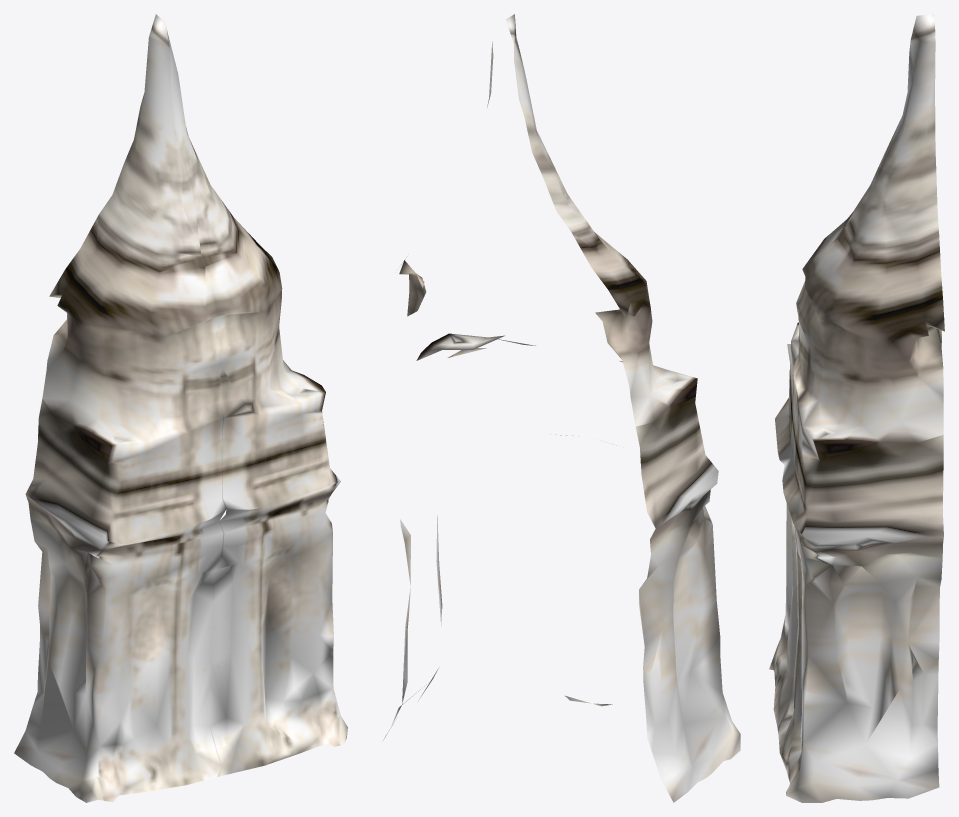
File: tombabsalom.glb
3 renders of one model, left to right at view 1: azimuth 30°, elevation 25°; view 2: azimuth 150°, elevation 25°; view 3: azimuth 270°, elevation 25°, orthographic. The views are drawn at different scales.
Parts seen in each view (by area): view 1: tomb; view 2: tomb; view 3: tomb.
Boxes of the visible parts, left/top/right/bottom form: tomb: left=14, top=14, right=347, bottom=802; tomb: left=383, top=14, right=740, bottom=802; tomb: left=769, top=14, right=944, bottom=802.
Size of the model in its own units: 1.23 by 3.02 by 0.6622.
Materials: 1 (1 with a texture image).
